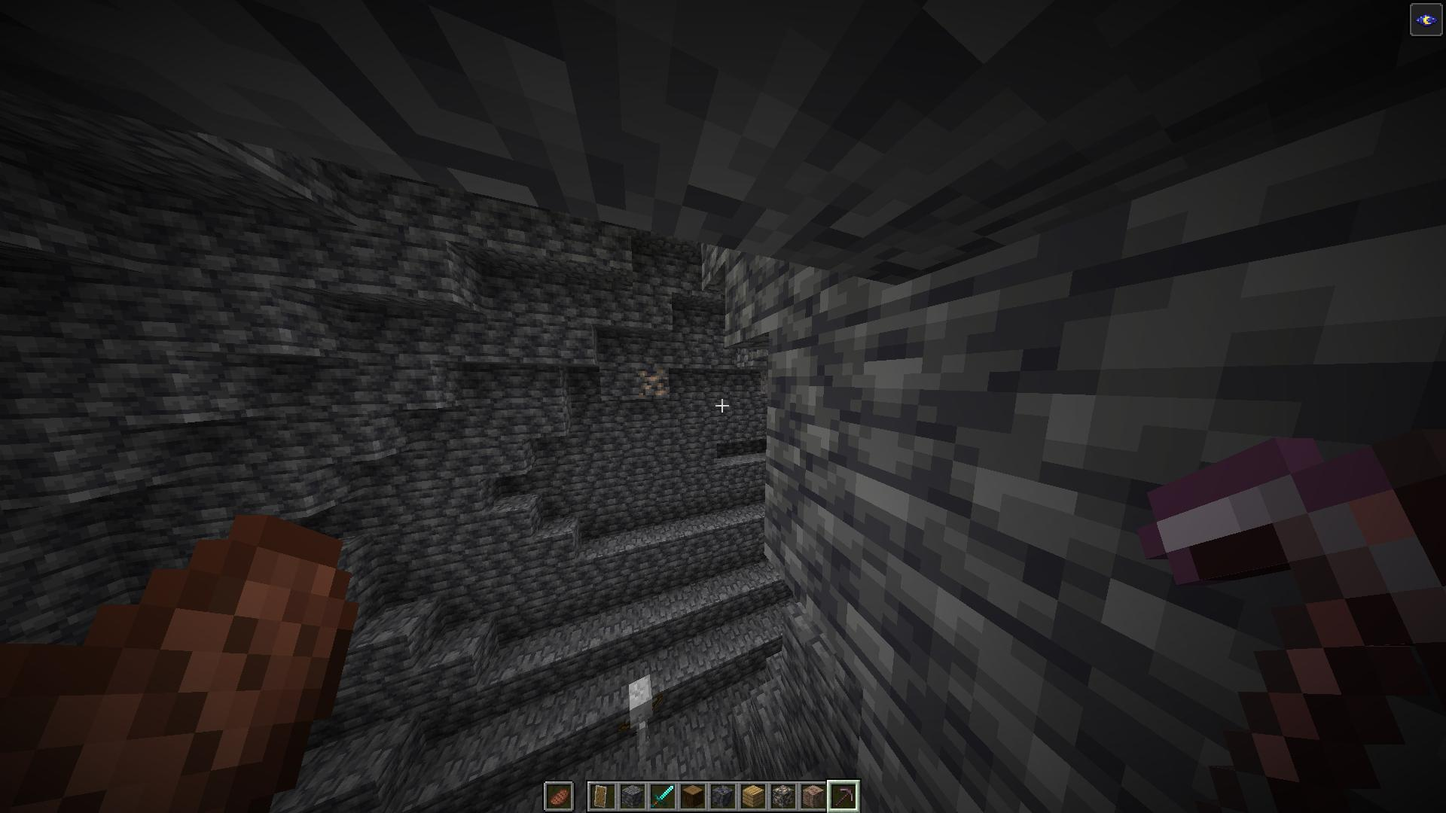iron ore: (635, 368, 669, 397)
